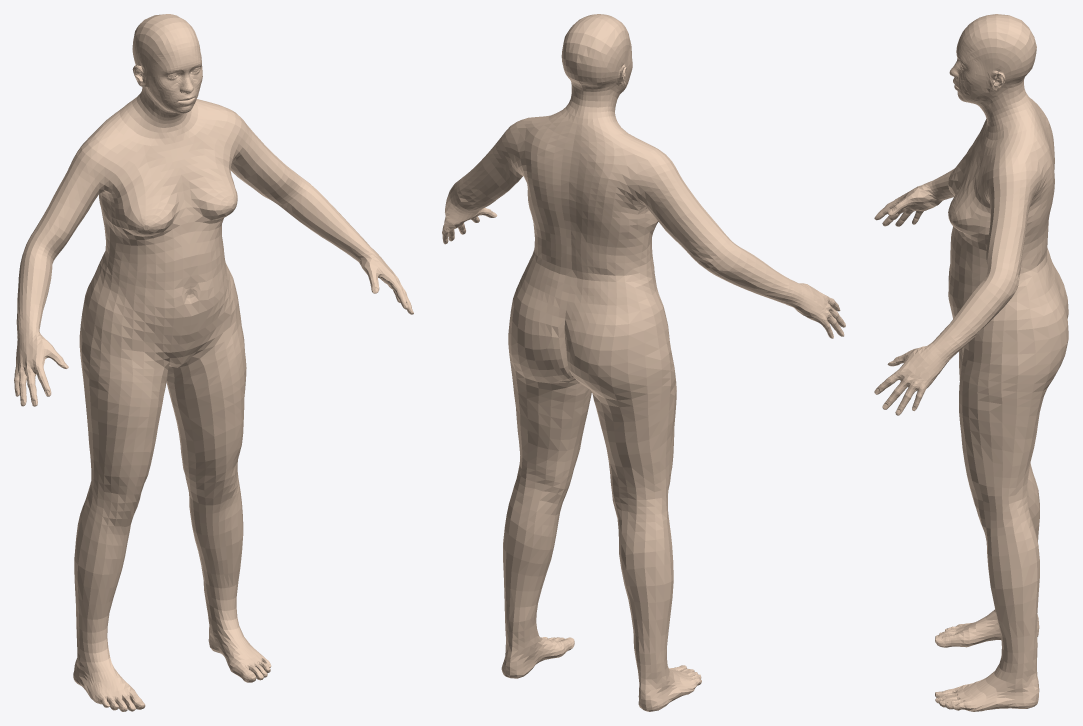
The model's file is female-mature-heavy-low.glb.
3 renders of one model, left to right at view 1: azimuth 30°, elevation 25°; view 2: azimuth 150°, elevation 25°; view 3: azimuth 270°, elevation 25°, orthographic.
Parts seen in each view (by area): view 1: world; view 2: world; view 3: world.
Part boxes in pixels (x1,y1,x2,y2): world: [14, 14, 413, 711]; world: [442, 14, 845, 711]; world: [874, 14, 1068, 711].
Size of the model in its own units: 1.12 by 1.81 by 0.4852.
